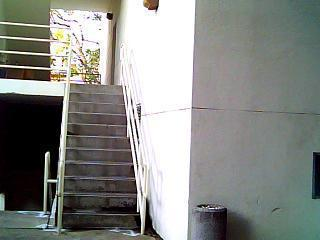Escaleras: (59, 76, 150, 230), (2, 198, 48, 218)
